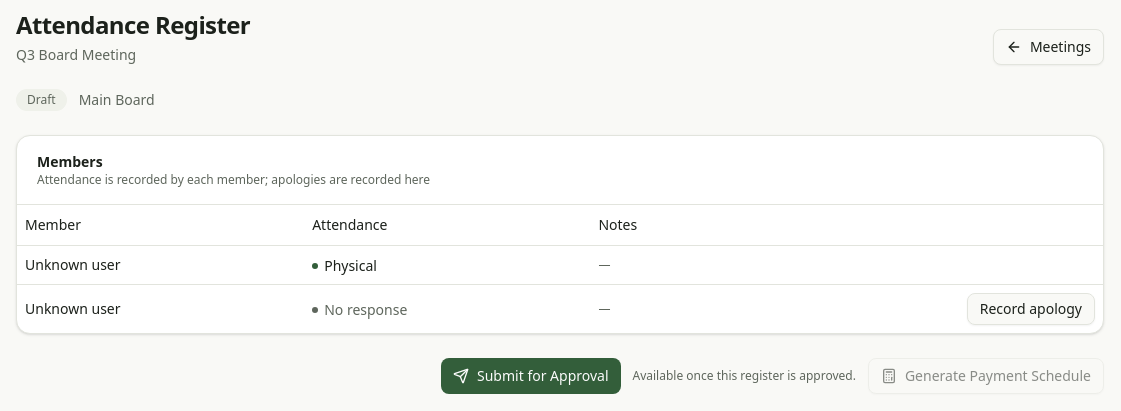
Test: StaffAttendanceRegister › Legal Officer submits the register for approval
Click the button "Submit for Approval". click: click(531, 376)
box: [441,358,620,394]
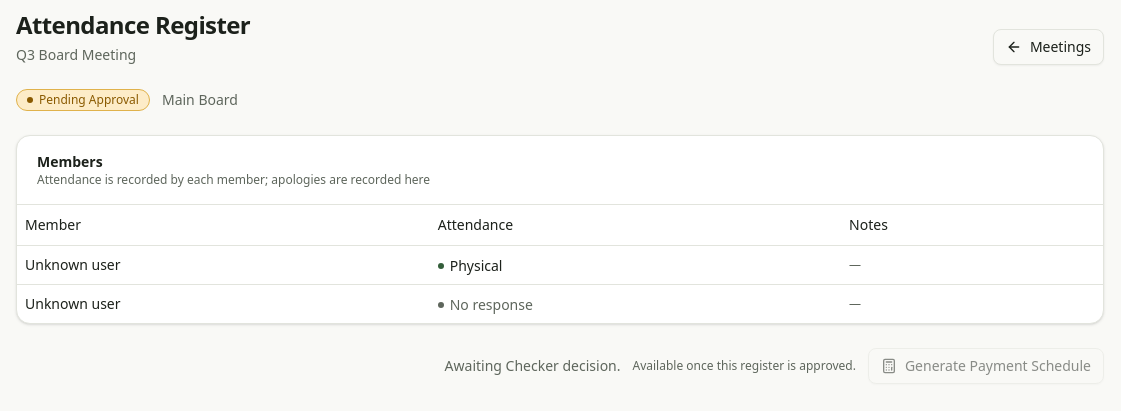
Expected: the text "Pending Approval" is shown, [16,89,150,111]
